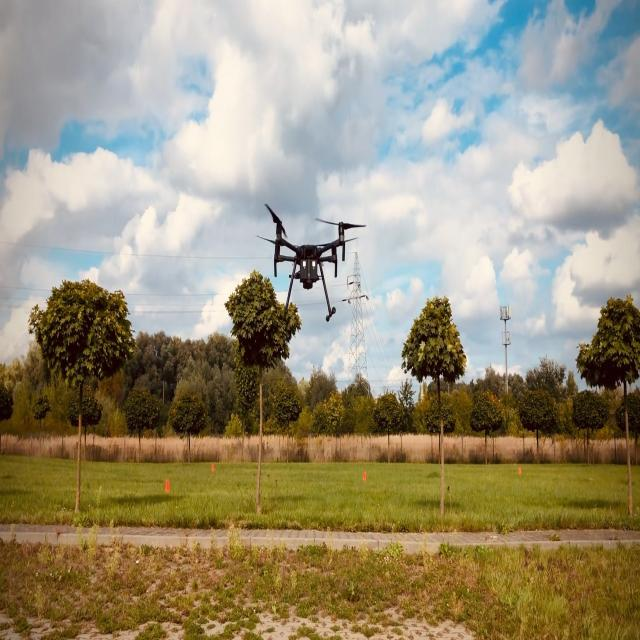drone: (255, 202, 366, 322)
